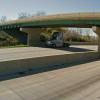Bridge: (5, 8, 99, 34)
